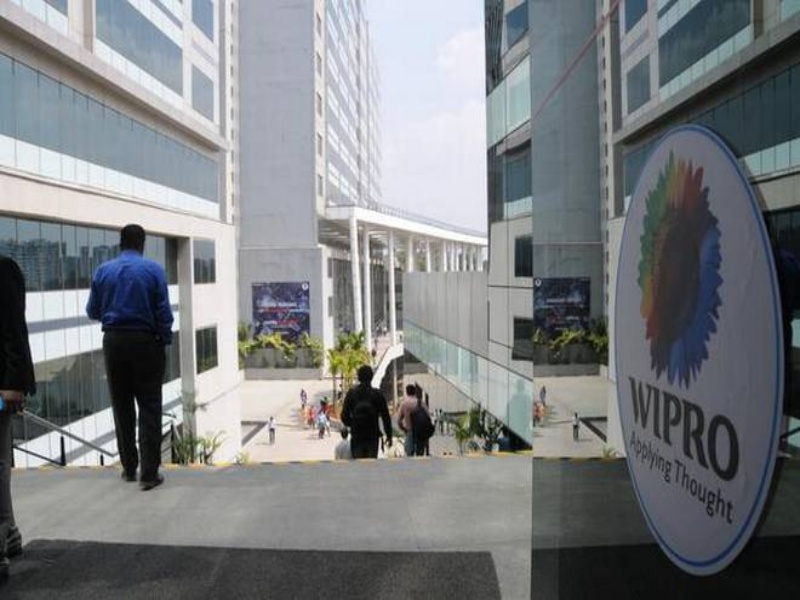wipro: (629, 145, 726, 389)
